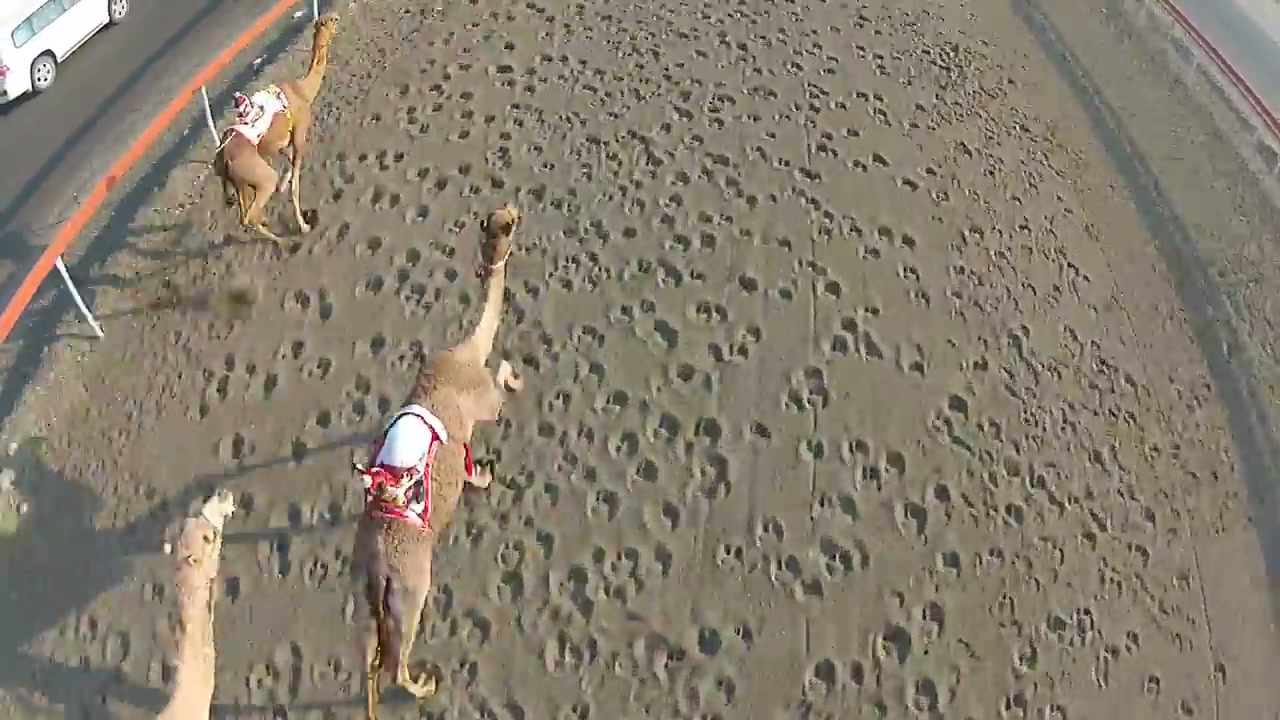animal_foot_print: (24, 0, 1264, 719), (194, 351, 279, 419)
